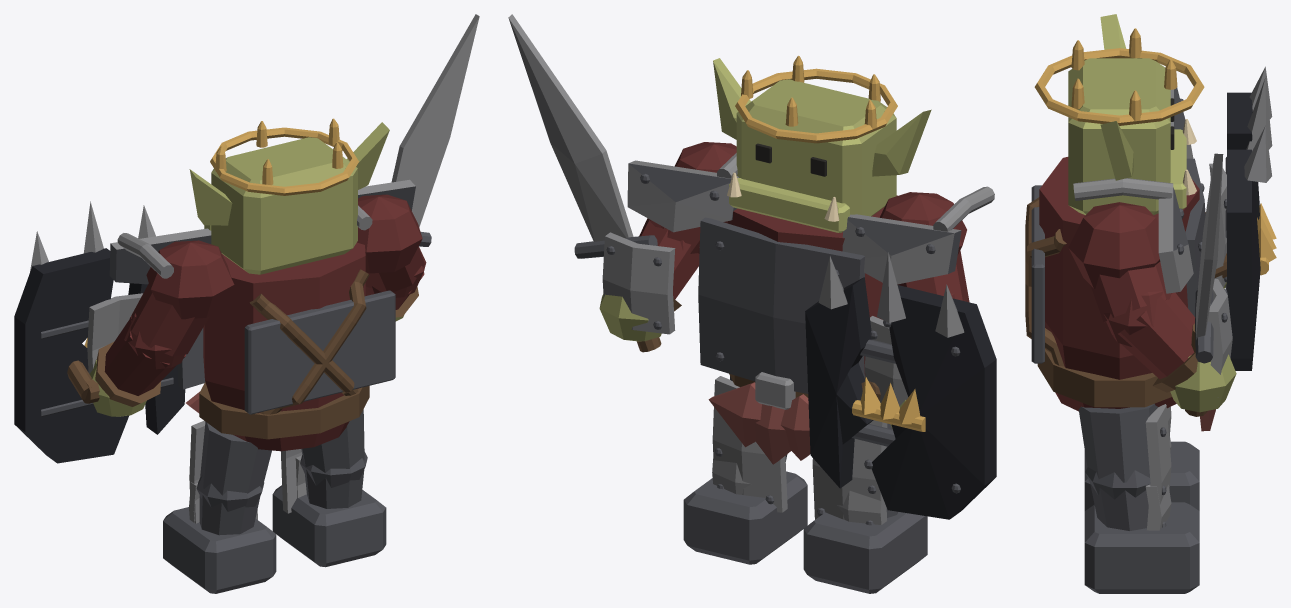
The model's file is host_36.glb.
3 renders of one model, left to right at view 1: azimuth 30°, elevation 25°; view 2: azimuth 150°, elevation 25°; view 3: azimuth 270°, elevation 25°, orthographic. The views are drawn at different scales.
Visible parts, largest first — view 1: V6 source broken spiked actual broken split shield body, Observed face, V6 source contacting small rear armor plate, Tailored continuous bodice, Grounded boot L, Grounded boot R, V6 source curved forged sword blade, Connected shoulder L, Continuous leather waist belt, V6 source actual visible fitted brown crossed rear carrying  (×2), Connected shoulder R, Upper leg L (+23 smaller); view 2: V6 source broken spiked actual broken split shield body, V6 source curved fitted breastplate, Observed face, V6 source broken spiked physically braced detached broken sh, V6 source curved forged sword blade, Grounded boot L, Grounded boot R, V6 source angled fitted shoulder plate L, V6 source angled fitted shoulder plate R, V6 source wrapped wrist armor R, V6 source articulated leg armor R upper_leg, Orc broad jaw (+24 smaller); view 3: Observed face, Tailored continuous bodice, Grounded boot R, V6 source broken spiked physically braced detached broken sh, Connected shoulder R, Upper leg R, Forearm R, Continuous leather waist belt, V6 source contacting gold crown band, V6 source curved forged sword blade, V6 source angled fitted shoulder plate R, Upper arm R (+24 smaller).
Boxes of the visible parts, left/top/right/bottom form: V6 source broken spiked actual broken split shield body: left=14, top=248, right=128, bottom=463; Observed face: left=211, top=137, right=357, bottom=274; V6 source contacting small rear armor plate: left=244, top=290, right=395, bottom=414; Tailored continuous bodice: left=203, top=242, right=365, bottom=413; Grounded boot L: left=163, top=507, right=276, bottom=593; Grounded boot R: left=272, top=485, right=386, bottom=567; V6 source curved forged sword blade: left=391, top=14, right=479, bottom=227; Connected shoulder L: left=146, top=240, right=234, bottom=319; Continuous leather waist belt: left=199, top=382, right=369, bottom=439; V6 source actual visible fitted brown crossed rear carrying  (×2): left=249, top=269, right=369, bottom=414; Connected shoulder R: left=357, top=194, right=422, bottom=273; Upper leg L: left=200, top=421, right=271, bottom=495; V6 source broken spiked actual broken split shield body: left=871, top=285, right=996, bottom=519; V6 source curved fitted breastplate: left=698, top=217, right=864, bottom=393; Observed face: left=736, top=79, right=896, bottom=216; V6 source broken spiked physically braced detached broken sh: left=805, top=277, right=873, bottom=488; V6 source curved forged sword blade: left=508, top=14, right=633, bottom=241; Grounded boot L: left=803, top=512, right=927, bottom=593; Grounded boot R: left=683, top=471, right=807, bottom=564; V6 source angled fitted shoulder plate L: left=842, top=214, right=961, bottom=284; V6 source angled fitted shoulder plate R: left=627, top=160, right=738, bottom=232; V6 source wrapped wrist armor R: left=602, top=232, right=675, bottom=334; V6 source articulated leg armor R upper_leg: left=712, top=376, right=787, bottom=512; Orc broad jaw: left=729, top=178, right=849, bottom=232; Observed face: left=1068, top=58, right=1170, bottom=215; Tailored continuous bodice: left=1039, top=157, right=1199, bottom=379; Grounded boot R: left=1084, top=502, right=1199, bottom=593; V6 source broken spiked physically braced detached broken sh: left=1227, top=149, right=1260, bottom=370; Connected shoulder R: left=1068, top=202, right=1160, bottom=288; Upper leg R: left=1078, top=403, right=1158, bottom=482; Forearm R: left=1112, top=292, right=1195, bottom=379; Continuous leather waist belt: left=1037, top=349, right=1172, bottom=407; V6 source contacting gold crown band: left=1034, top=48, right=1204, bottom=125; V6 source curved forged sword blade: left=1196, top=153, right=1223, bottom=339; V6 source angled fitted shoulder plate R: left=1158, top=186, right=1193, bottom=293; Upper arm R: left=1090, top=262, right=1171, bottom=322.
Size of the model in its own units: 1.69 by 1.66 by 0.7217.
